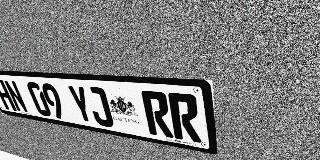0: (25, 82, 53, 117)
9: (39, 83, 68, 120)
H: (0, 79, 17, 111)
J: (84, 86, 115, 128)
N: (3, 80, 29, 113)
R: (168, 92, 202, 143), (141, 90, 174, 138)
Y: (66, 85, 96, 125)
